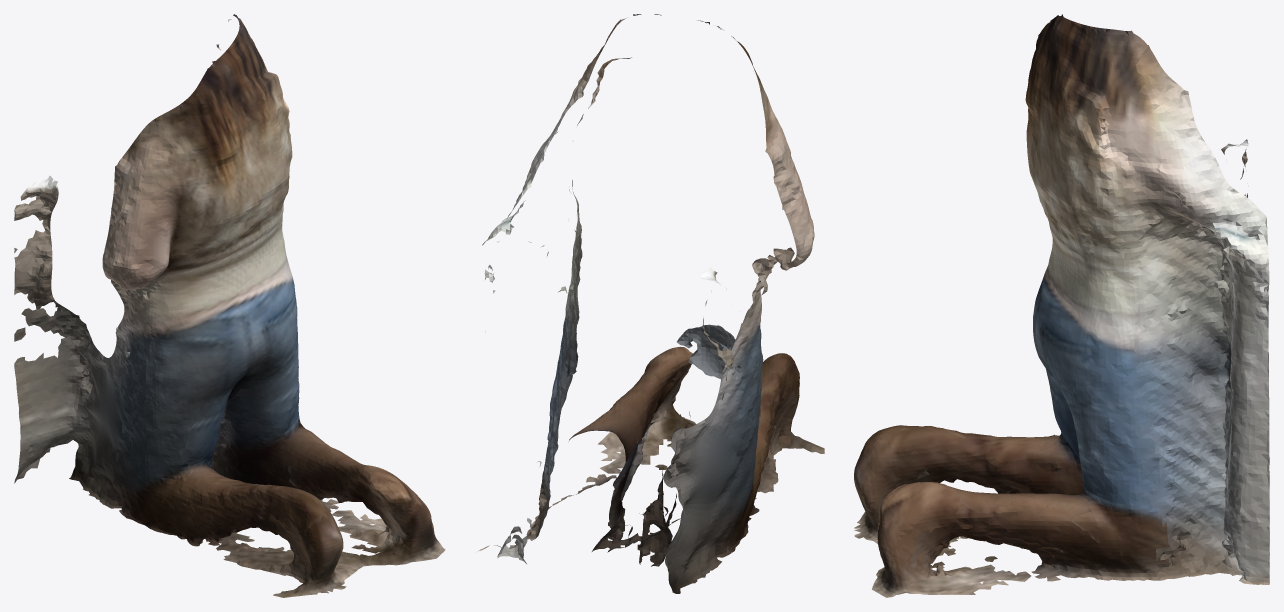
The picture shows the model from 3 angles, left to right: view 1: azimuth 30°, elevation 25°; view 2: azimuth 150°, elevation 25°; view 3: azimuth 270°, elevation 25°; orthographic projection. The views are drawn at different scales.
Size of the model in its own units: 0.5891 by 1.01 by 0.7401.
1 material, 1 textured.
